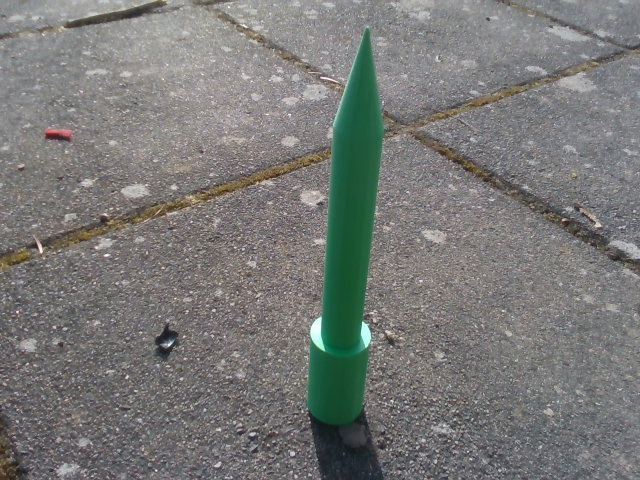Probe: (300, 18, 392, 427)
